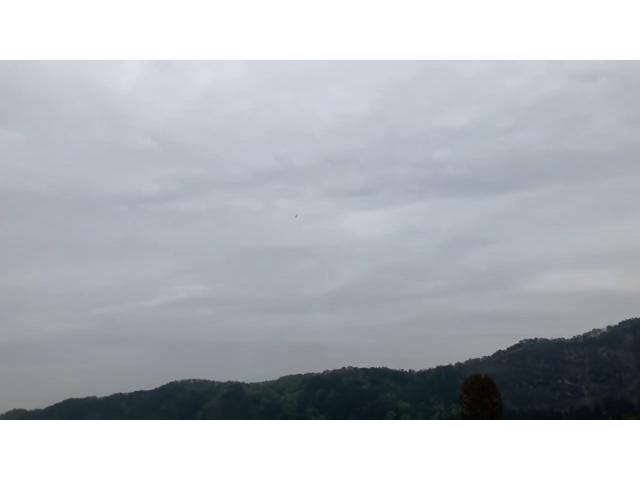Anti-Drone: (288, 211, 308, 223)
